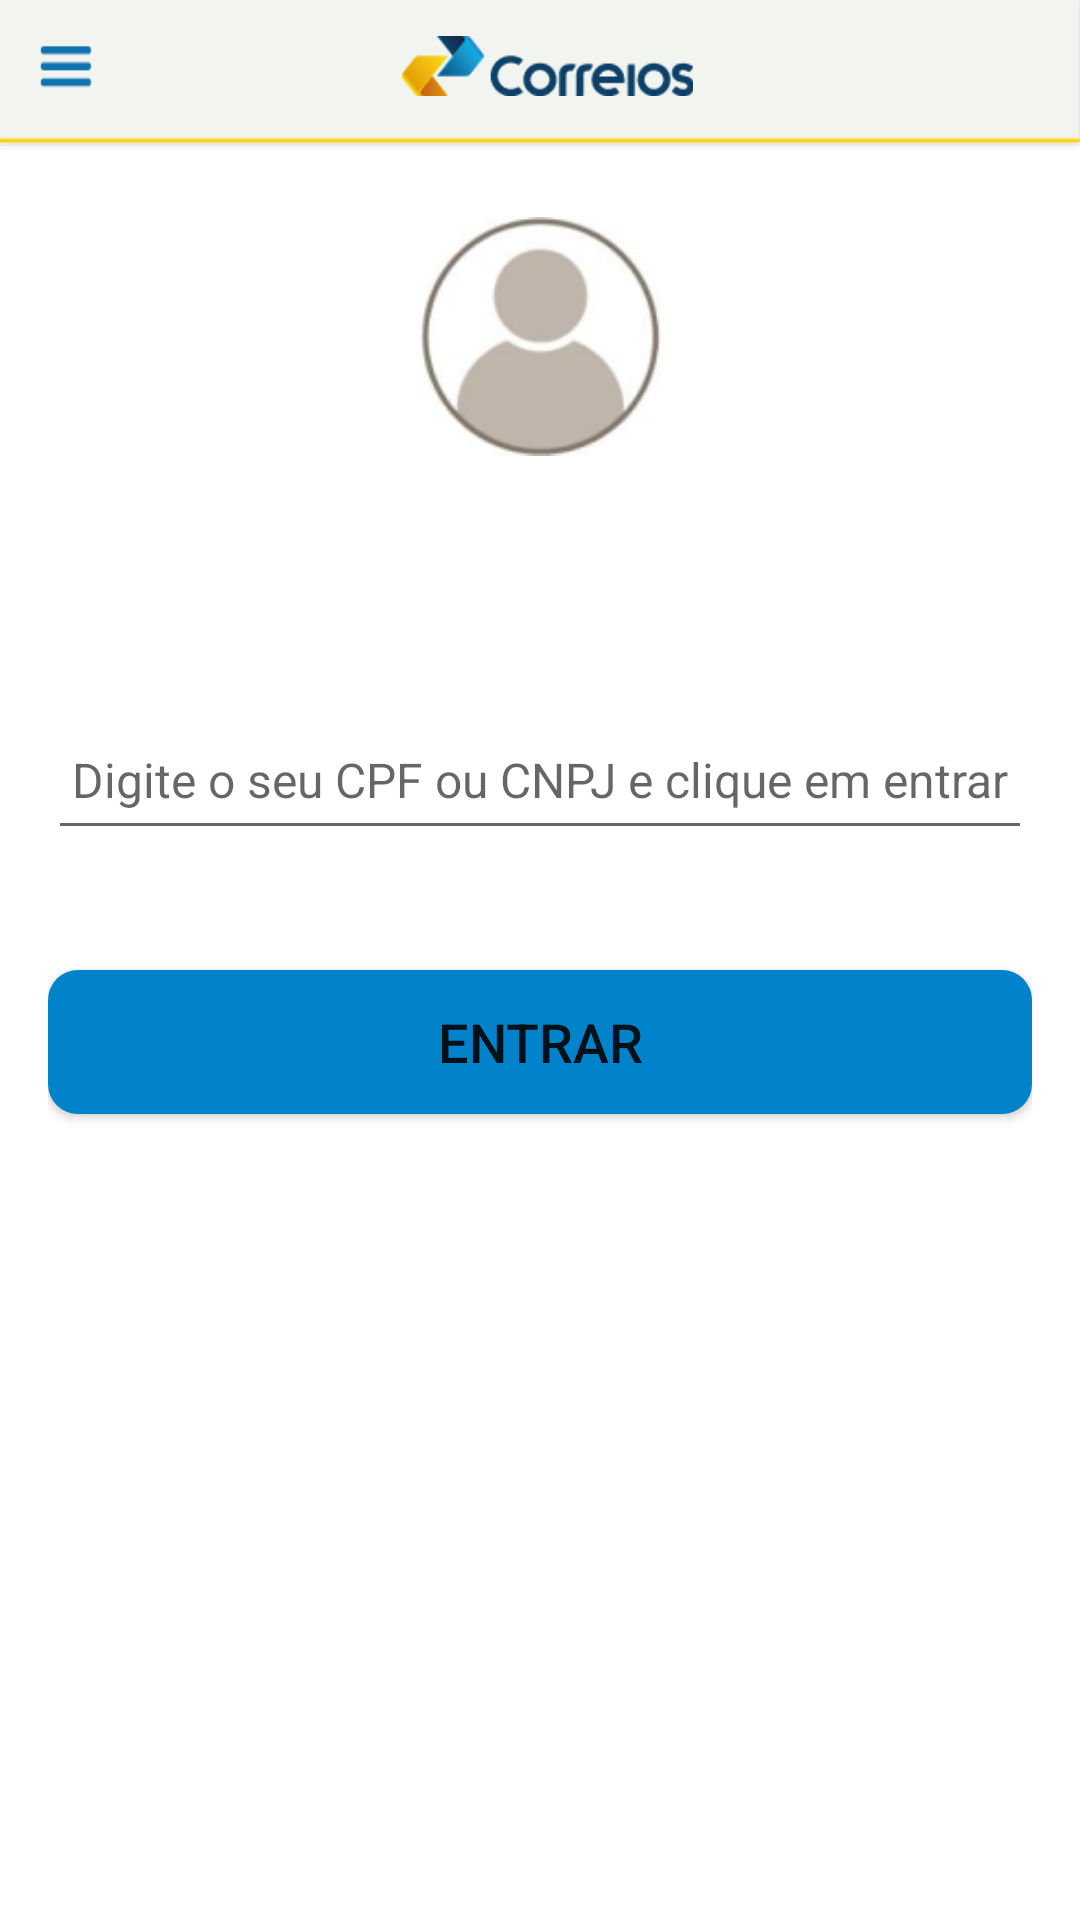

Named icons in this screenshot (1080×1920) and their bounding boxes, [x1, y1, x2, y2]:
menu: [40, 46, 92, 88]
user: [421, 217, 660, 456]
